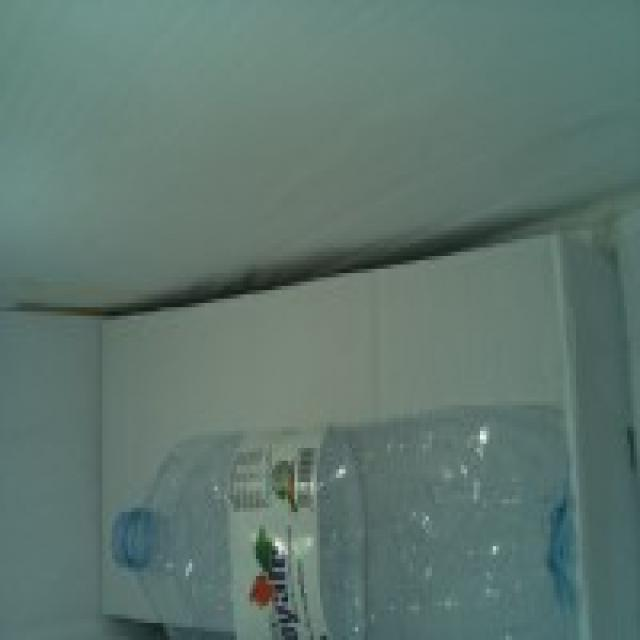blue: (111, 411, 576, 640)
